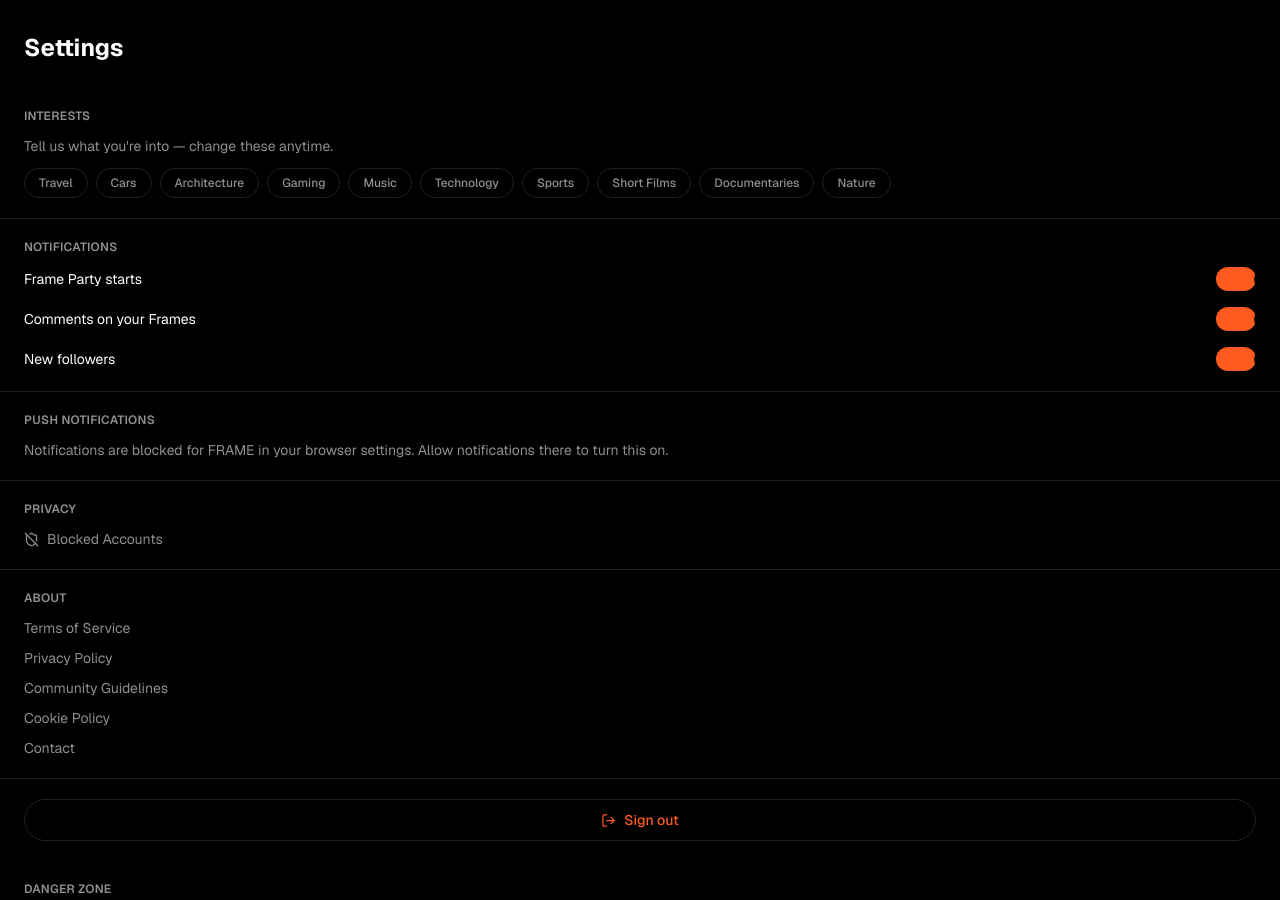
Test case: Settings — Notifications preferences › rolls back the switch and shows an error if saving fails
Click the switch named "Comments on your Frames" at (1236, 319), box [1216,307,1256,331]
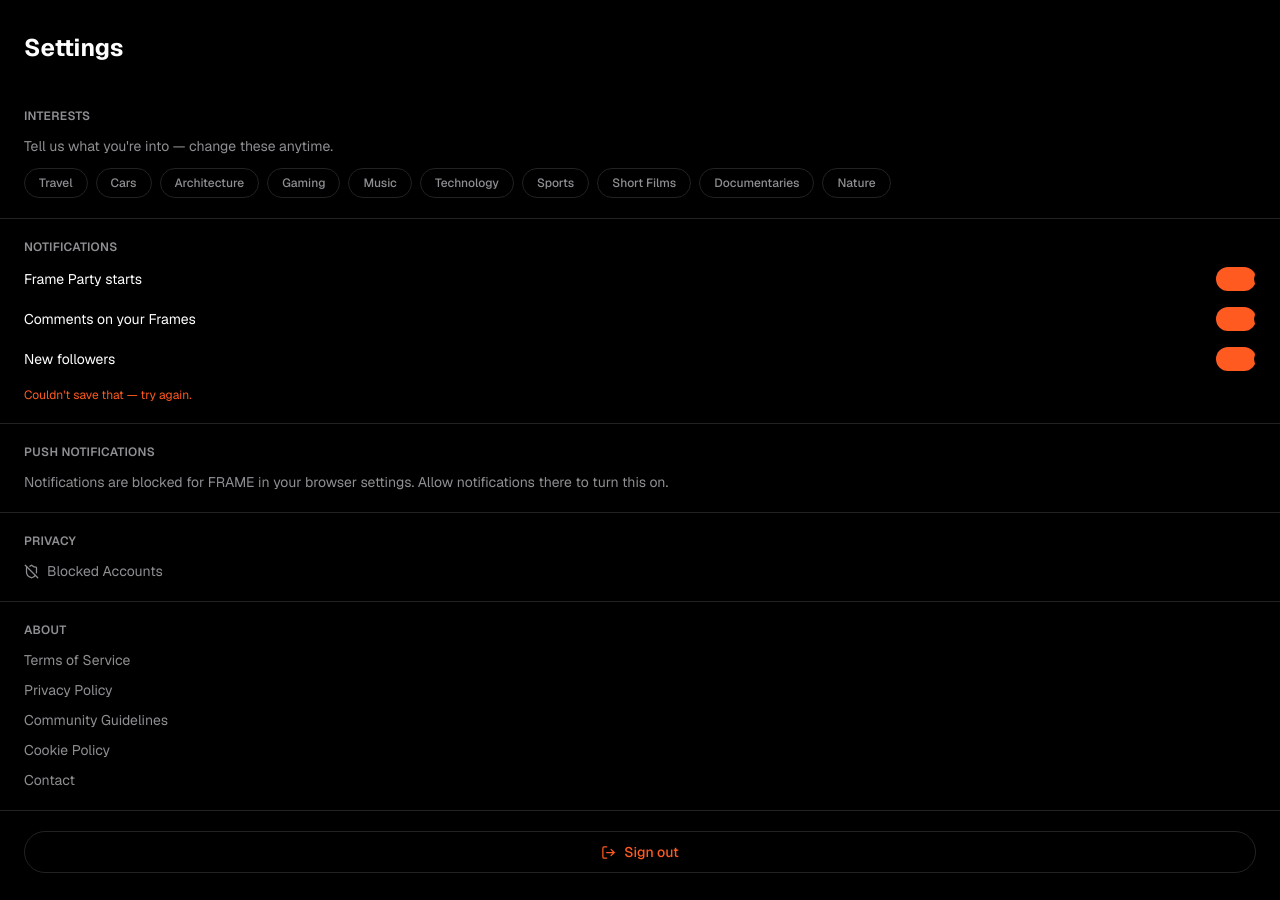
Expected: the text "Couldn't save that — try again." is shown, [24,387,192,403]
